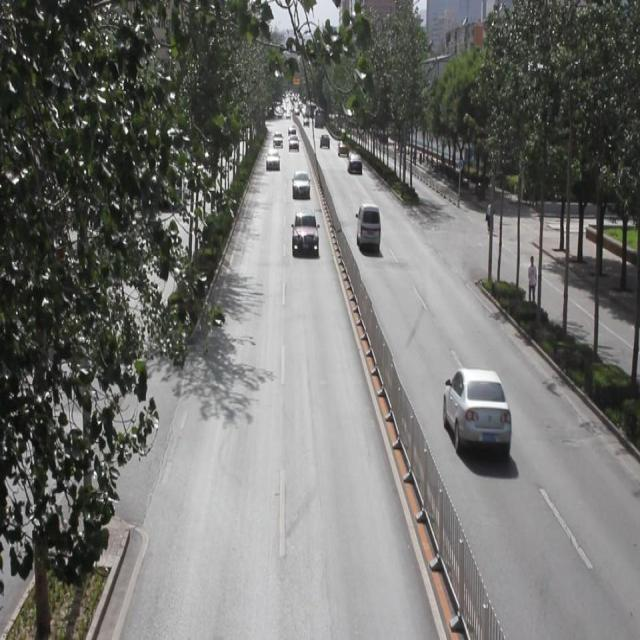car: (443, 369, 511, 456), (292, 211, 320, 256), (290, 170, 310, 197), (347, 153, 362, 175), (266, 148, 279, 171), (288, 134, 300, 154), (272, 132, 284, 151), (320, 132, 330, 149), (337, 141, 348, 156)
truck: (356, 202, 381, 253)
